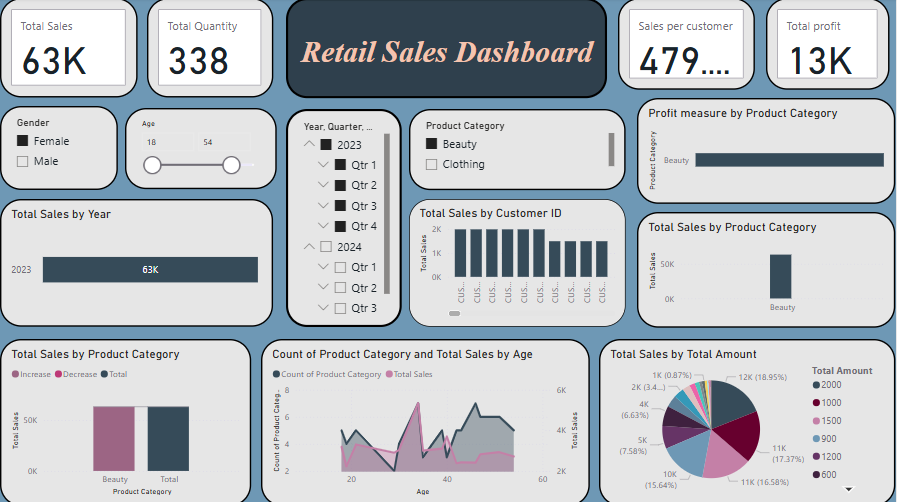

The page's visual inventory and layout, read from the dashboard file:
{"tool":"powerbi","page":{"name":"Page 1","canvas":[1280,720],"ordinal":0},"visuals":[{"type":"cardVisual","fields":{"Data":["retail_sales_dataset.Total Sales"]},"box":[9.9,0,194.6,141],"z":0},{"type":"cardVisual","fields":{"Data":["retail_sales_dataset.Sales per customer"]},"box":[886,0,194.1,130.4],"z":1000},{"type":"cardVisual","fields":{"Data":["retail_sales_dataset.Total profit"]},"box":[1095.9,0,175,130.4],"z":2000},{"type":"cardVisual","fields":{"Data":["retail_sales_dataset.Total Quantity"]},"box":[218.4,0,178.7,141],"z":3000},{"type":"funnel","fields":{"Category":["retail_sales_dataset.Order Date.Variation.Date Hierarchy.Year","retail_sales_dataset.Order Date.Variation.Date Hierarchy.Month"],"Y":["retail_sales_dataset.Total Sales"]},"box":[9.5,284.7,386.5,181.3],"z":4000},{"type":"waterfallChart","fields":{"Category":["retail_sales_dataset.Product Category"],"Y":["retail_sales_dataset.Total Sales"]},"box":[9.5,483.5,356.3,237],"z":5000},{"type":"clusteredColumnChart","fields":{"Category":["retail_sales_dataset.Customer ID"],"Y":["retail_sales_dataset.Total Sales"]},"box":[590.1,284.7,307,181.3],"z":6000},{"type":"ribbonChart","fields":{"Category":["retail_sales_dataset.Product Category"],"Y":["retail_sales_dataset.Total Sales"]},"box":[913.2,302.8,365.9,163.5],"z":7000},{"type":"pieChart","fields":{"Category":["retail_sales_dataset.Total Amount"],"Y":["retail_sales_dataset.Total Sales"]},"box":[858.9,483.5,419.9,237],"z":8000},{"type":"barChart","fields":{"Category":["retail_sales_dataset.Product Category"],"Y":["retail_sales_dataset.Profit measure"]},"box":[913,141.6,365.8,149.5],"z":9000},{"type":"areaChart","fields":{"Category":["retail_sales_dataset.Age"],"Y":["CountNonNull(retail_sales_dataset.Product Category)"],"Y2":["retail_sales_dataset.Total Sales"]},"box":[380.2,483.5,466,237],"z":10000},{"type":"slicer","fields":{"Values":["retail_sales_dataset.Age"]},"box":[187.7,155.9,214.7,114.5],"z":11000},{"type":"slicer","fields":{"Values":["retail_sales_dataset.Gender"]},"box":[9.5,152.7,167,119.3],"z":12000},{"type":"slicer","fields":{"Values":["retail_sales_dataset.Order Date.Variation.Date Hierarchy.Year","retail_sales_dataset.Order Date.Variation.Date Hierarchy.Quarter","retail_sales_dataset.Order Date.Variation.Date Hierarchy.Month","retail_sales_dataset.Order Date.Variation.Date Hierarchy.Day"]},"box":[415.1,157.5,163.8,308.6],"z":13000},{"type":"textbox","box":[415.1,0,454.9,141.6],"z":14000},{"type":"slicer","fields":{"Values":["retail_sales_dataset.Product Category"]},"box":[590.1,157.5,307,114.5],"z":15000}]}

Visuals, with their boxes in screenshot pixels (x1, y1, x2, y2), scaled from the page's 1280x720 canvas onto the 897x502 screenshot:
cardVisual - retail_sales_dataset.Total Sales: region(7, 0, 143, 98)
cardVisual - retail_sales_dataset.Sales per customer: region(621, 0, 757, 91)
cardVisual - retail_sales_dataset.Total profit: region(768, 0, 891, 91)
cardVisual - retail_sales_dataset.Total Quantity: region(153, 0, 278, 98)
funnel - retail_sales_dataset.Order Date.Variation.Date Hierarchy.Year x retail_sales_dataset.Order Date.Variation.Date Hierarchy.Month: region(7, 198, 278, 325)
waterfallChart - retail_sales_dataset.Product Category x retail_sales_dataset.Total Sales: region(7, 337, 256, 501)
clusteredColumnChart - retail_sales_dataset.Customer ID x retail_sales_dataset.Total Sales: region(414, 198, 629, 325)
ribbonChart - retail_sales_dataset.Product Category x retail_sales_dataset.Total Sales: region(640, 211, 896, 325)
pieChart - retail_sales_dataset.Total Amount x retail_sales_dataset.Total Sales: region(602, 337, 896, 501)
barChart - retail_sales_dataset.Product Category x retail_sales_dataset.Profit measure: region(640, 99, 896, 203)
areaChart - retail_sales_dataset.Age x CountNonNull(retail_sales_dataset.Product Category): region(266, 337, 593, 501)
slicer - retail_sales_dataset.Age: region(132, 109, 282, 189)
slicer - retail_sales_dataset.Gender: region(7, 106, 124, 190)
slicer - retail_sales_dataset.Order Date.Variation.Date Hierarchy.Year x retail_sales_dataset.Order Date.Variation.Date Hierarchy.Quarter: region(291, 110, 406, 325)
textbox: region(291, 0, 610, 99)
slicer - retail_sales_dataset.Product Category: region(414, 110, 629, 190)
